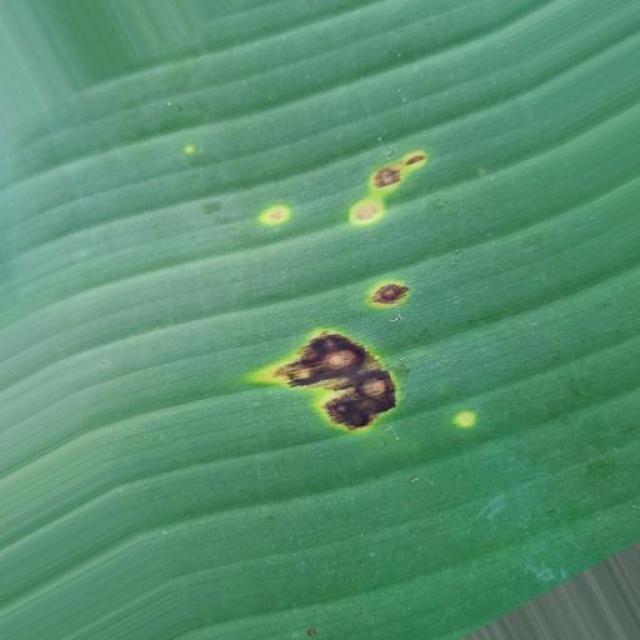Early_rust: (209, 129, 482, 468)
